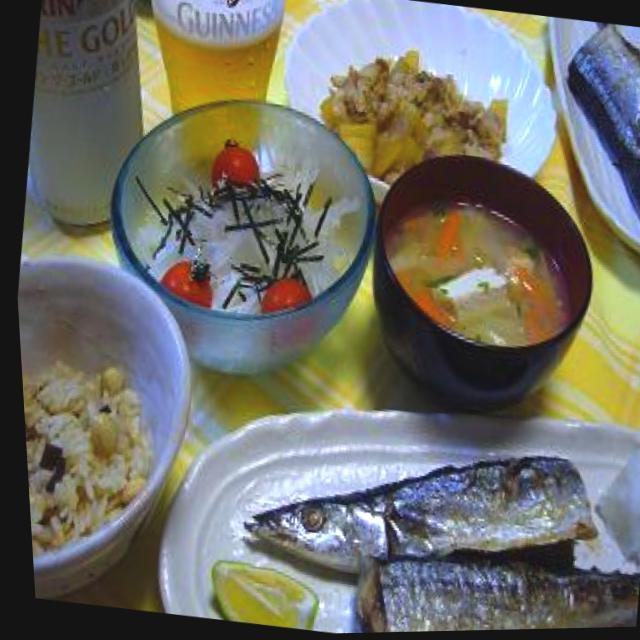汤锅炖物: (362, 159, 625, 436)
熟制海鲜: (160, 365, 640, 638)
